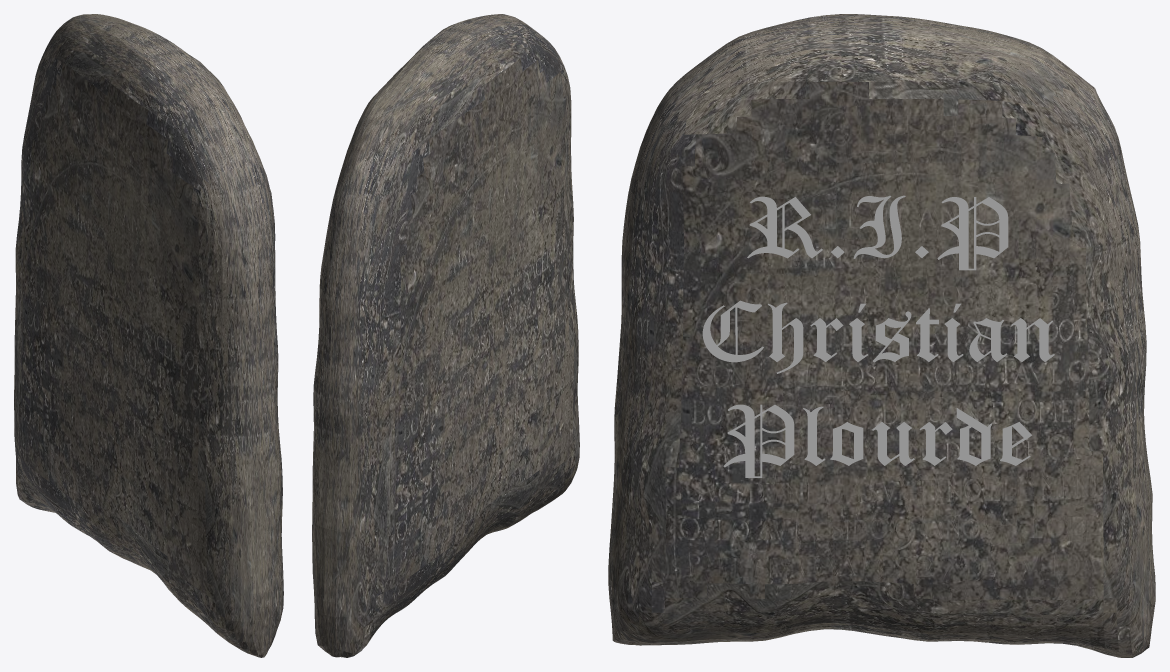
Rendered from tomb_stone_2.fbx.
3 renders of one model, left to right at view 1: azimuth 30°, elevation 25°; view 2: azimuth 150°, elevation 25°; view 3: azimuth 270°, elevation 25°, orthographic. The views are drawn at different scales.
Visible parts, largest first — view 1: Cube; view 2: Cube; view 3: Cube, Text.
Part boxes in pixels (x1,y1,x2,y2): Cube: [14, 14, 283, 657]; Cube: [312, 14, 579, 657]; Cube: [608, 14, 1155, 657]; Text: [702, 195, 1054, 477].
Size of the model in its own units: 29.93 by 182 by 143.
Materials: 2 (1 with a texture image).
